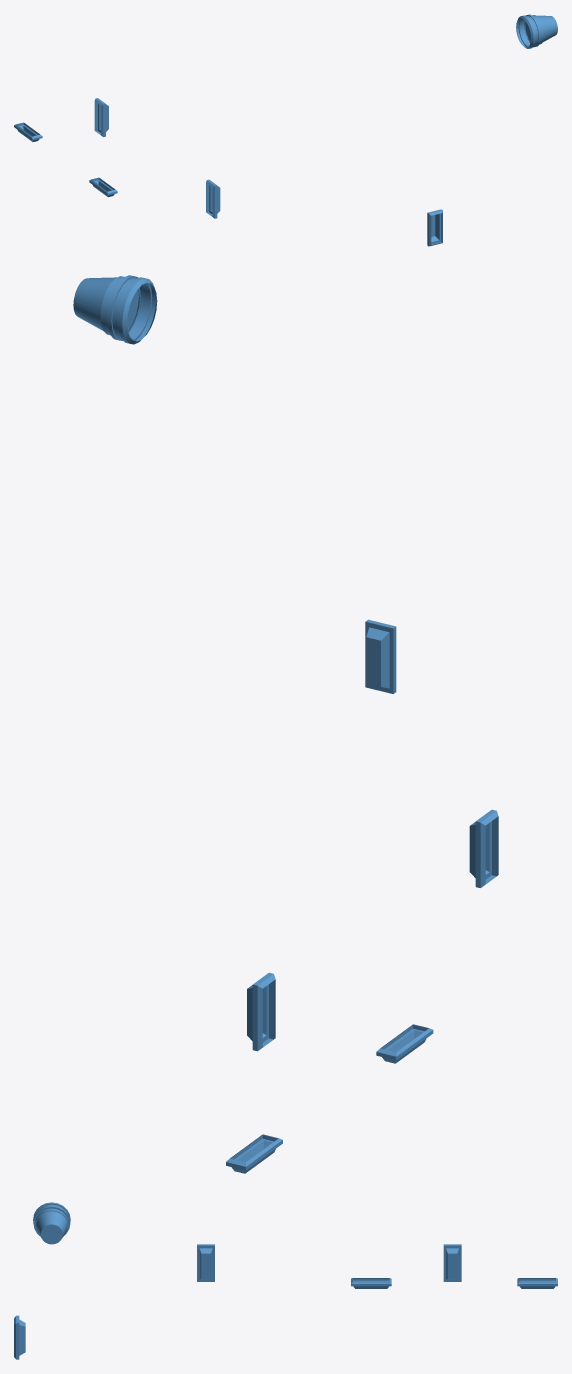
The model's file is Lights.fbx.
The picture shows the model from 3 angles, top to bottom: view 1: azimuth 30°, elevation 25°; view 2: azimuth 150°, elevation 25°; view 3: azimuth 270°, elevation 25°; orthographic projection. The views are drawn at different scales.
Visible parts, largest first — view 1: EmergencyLight_Base, Light_Small, Light_Small1, Light_Small_02, EmergencyLight_Glass; view 2: EmergencyLight_Base, Light_Small, Light_Small_02, Light_Small1, EmergencyLight_Glass, Light_Small_Window, Light_Small_Window_02; view 3: EmergencyLight_Glass, Light_Small1, Light_Small_02, Light_Small, Light_Small_Window_02, Light_Small_Window, EmergencyLight_Base, EmergencyLight_Glass1.
Boxes of the visible parts, x1,y1,x2,y2 form: EmergencyLight_Base: (516,14,540,48); Light_Small: (427,209,442,246); Light_Small1: (94,98,108,137); Light_Small_02: (206,179,220,218); EmergencyLight_Glass: (524,15,557,44); EmergencyLight_Base: (107,275,157,344); Light_Small: (365,619,396,693); Light_Small_02: (469,809,498,887); Light_Small1: (247,972,275,1051); EmergencyLight_Glass: (73,276,139,334); Light_Small_Window: (376,1024,433,1063); Light_Small_Window_02: (226,1134,282,1173); EmergencyLight_Glass: (35,1208,68,1244); Light_Small1: (443,1244,461,1281); Light_Small_02: (197,1244,214,1281); Light_Small: (14,1315,25,1359); Light_Small_Window_02: (517,1278,557,1288); Light_Small_Window: (351,1278,391,1288); EmergencyLight_Base: (33,1202,70,1233); EmergencyLight_Glass1: (35,1209,68,1243).
Bounding box in the file's own units: 54.92 × 35.92 × 75.45.
